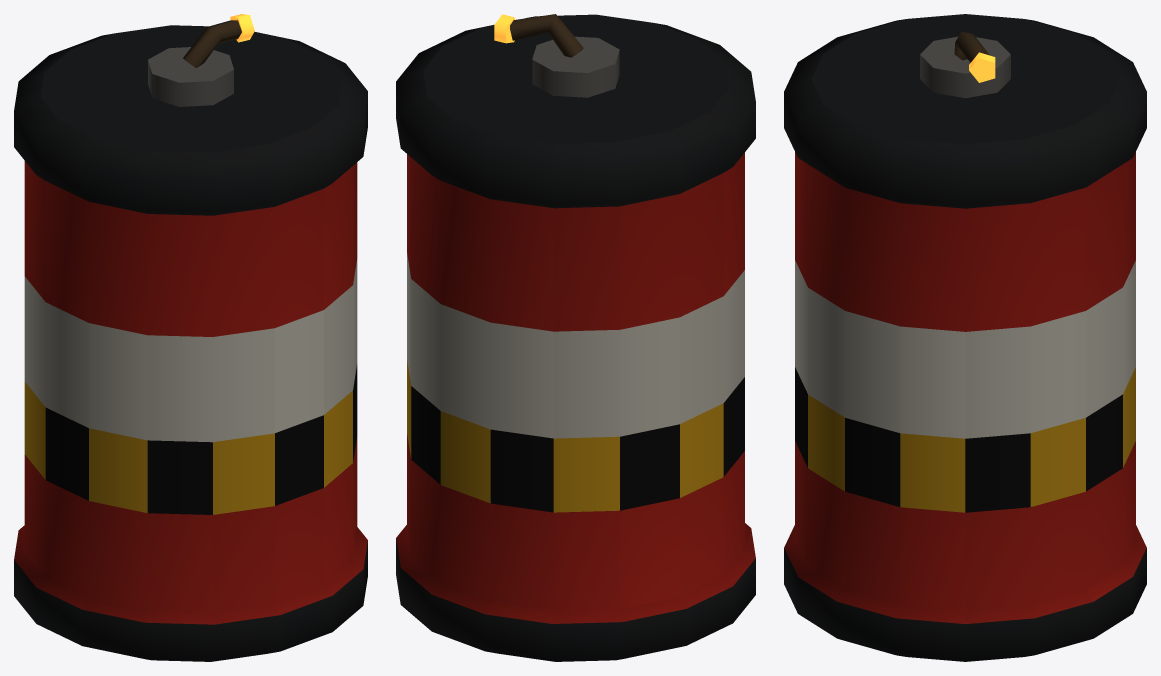
Rendered from blast_charge.glb.
3 renders of one model, left to right at view 1: azimuth 30°, elevation 25°; view 2: azimuth 150°, elevation 25°; view 3: azimuth 270°, elevation 25°, orthographic.
Visible parts, largest first — view 1: Mesh; view 2: Mesh; view 3: Mesh.
Part boxes in pixels (bbox=[...]): Mesh: bbox=[14, 14, 367, 661]; Mesh: bbox=[396, 14, 755, 661]; Mesh: bbox=[784, 14, 1146, 661].
Bounding box in the file's own units: 0.4 × 0.701 × 0.4.
